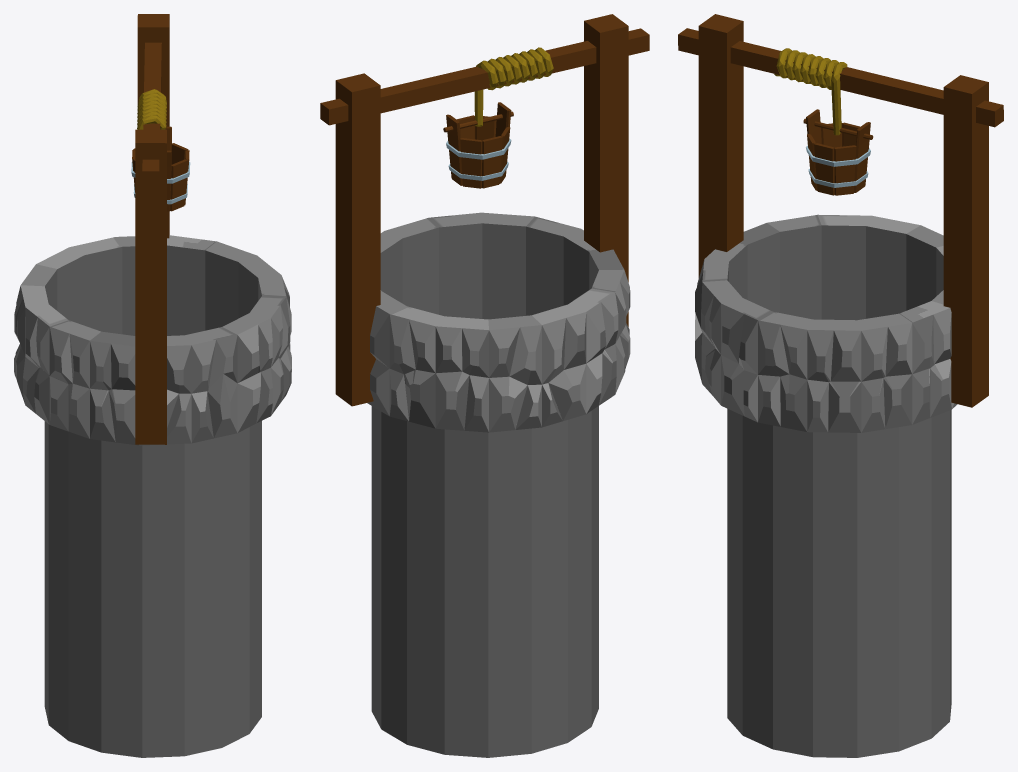
The model's file is well-2.fbx.
3 views of the same model, side by side, from view 1: azimuth 30°, elevation 25°; view 2: azimuth 150°, elevation 25°; view 3: azimuth 270°, elevation 25° (orthographic). The views are drawn at different scales.
Parts seen in each view (by area): view 1: well, Well; view 2: well, Well; view 3: well, Well.
Part boxes in pixels (x1,y1,x2,y2): well: [14, 14, 291, 757]; Well: [131, 126, 190, 211]; well: [320, 14, 649, 757]; Well: [443, 102, 513, 188]; well: [678, 14, 1003, 757]; Well: [803, 109, 873, 195].
Bounding box in the file's own units: 1925 × 4282 × 1705.
